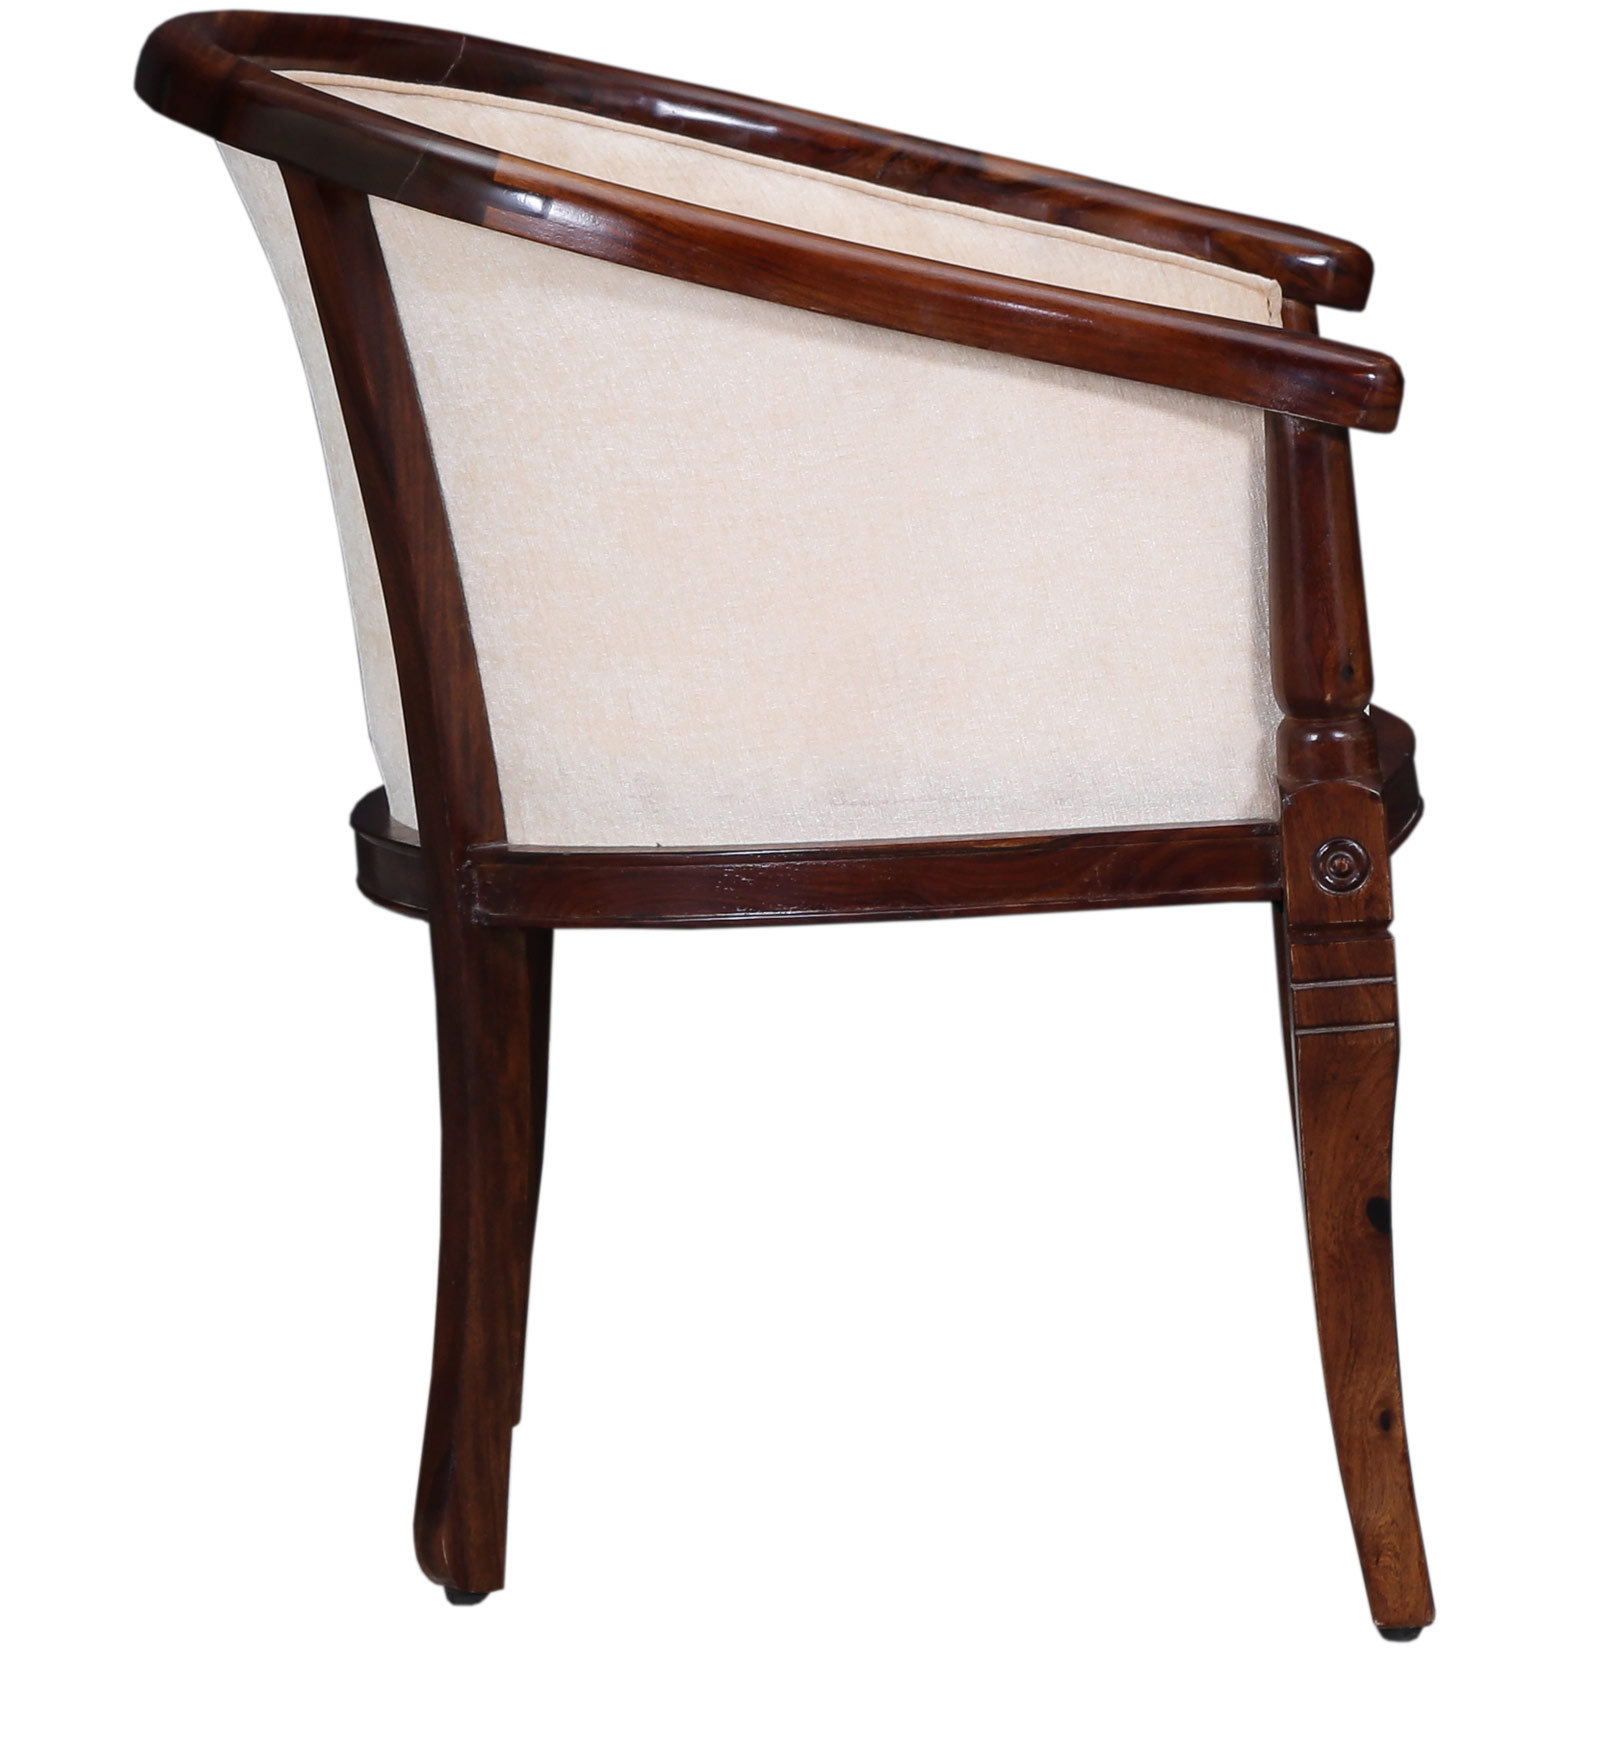Stalley Arm Chair in Cream Color with Honey Oak Finish by Amberville: (101, 12, 1540, 1703)
